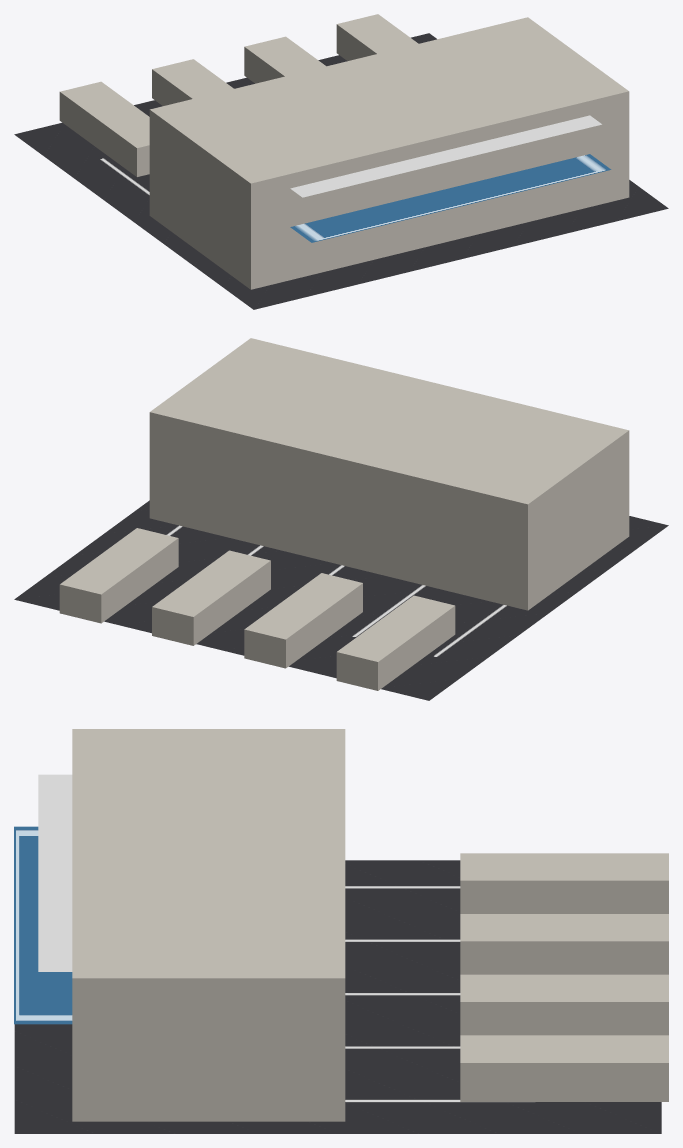
Rendered from centro_comercial_9x9_v2 (1).glb.
The picture shows the model from 3 angles, top to bottom: view 1: azimuth 30°, elevation 25°; view 2: azimuth 150°, elevation 25°; view 3: azimuth 270°, elevation 25°; orthographic projection. The views are drawn at different scales.
Size of the model in its own units: 9 by 2.2 by 9.11.
Materials: 4 (4 with a texture image).
